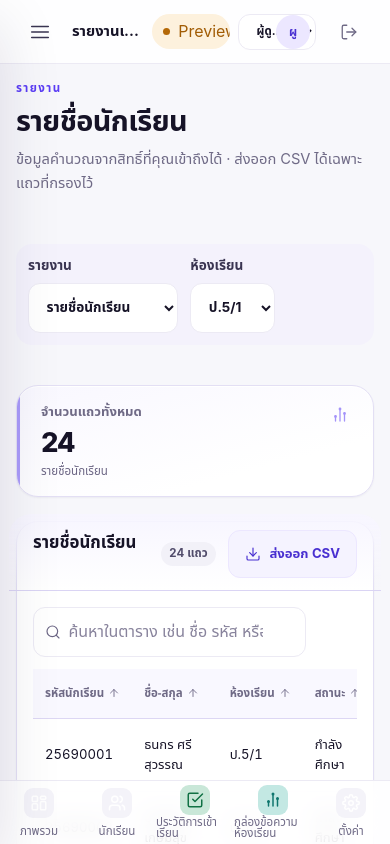
Test: a report on screen › says nothing matched instead of showing an empty table
The image size is (390, 844).
Expected: the row "25690001 ธนกร ศรีสุวรรณ ป.5/1 กำลังศึกษา ดูรายละเอียด" is shown, [33, 719, 357, 792]
In the search field with placeholder "ค้นหาในตาราง เช่น ชื่อ รหัส หรือสถานะ": (170, 632) [33, 607, 306, 657], type "ไม่มีแถวนี้แน่นอน"
(page scrolled)
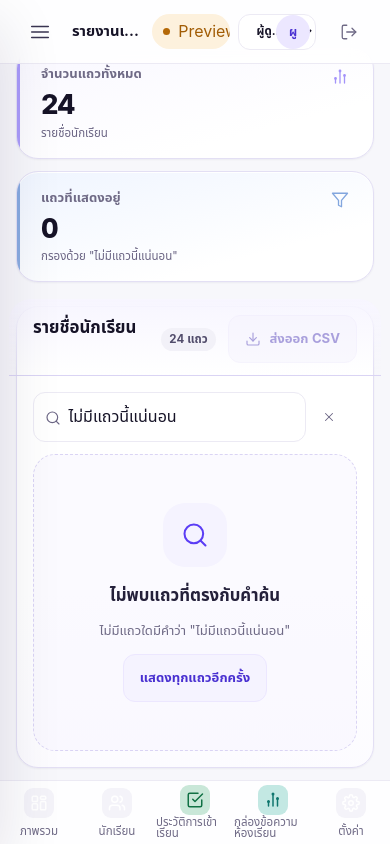
Expected: the heading "ไม่พบแถวที่ตรงกับคำค้น" is shown, [110, 583, 280, 609]
Click the button "แสดงทุกแถวอีกครั้ง": (195, 678) [123, 654, 267, 702]
(page scrolled)
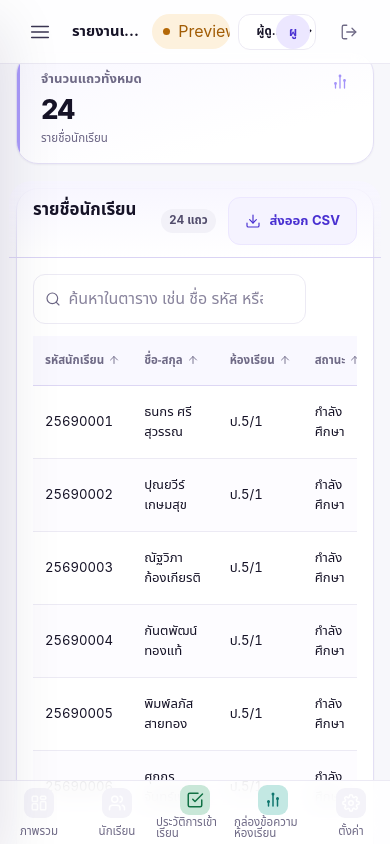
Expected: the row "25690001 ธนกร ศรีสุวรรณ ป.5/1 กำลังศึกษา ดูรายละเอียด" is shown, [33, 386, 357, 459]
